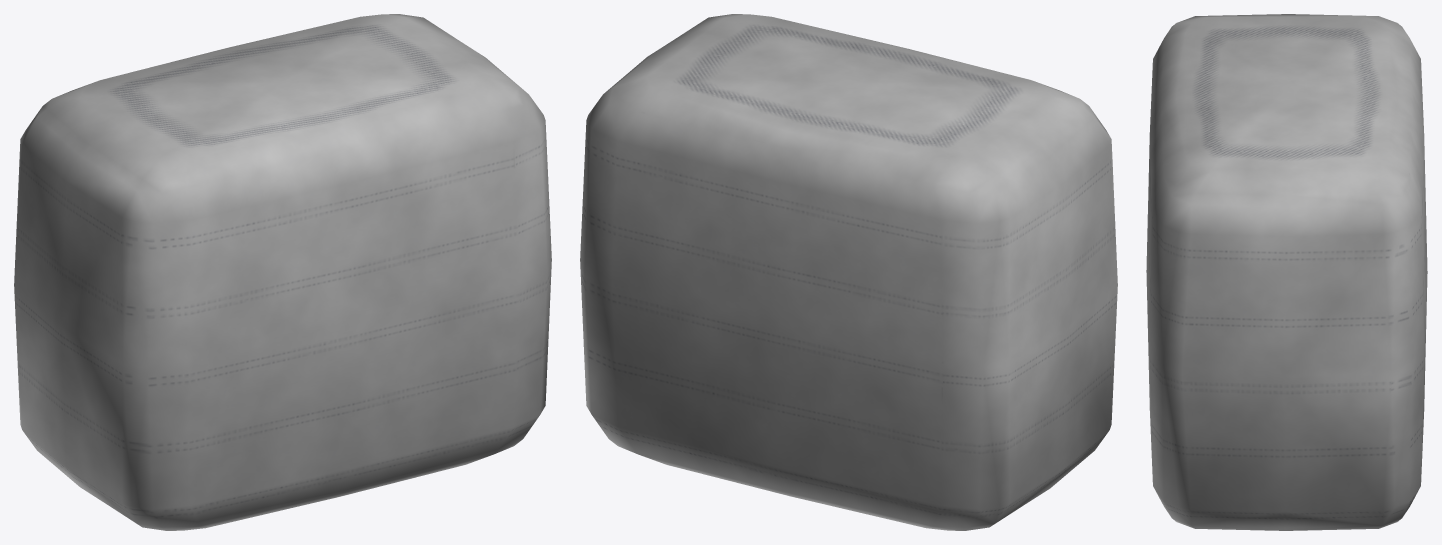
The model's file is UpperTorso_C1.fbx.
The picture shows the model from 3 angles, left to right: view 1: azimuth 30°, elevation 25°; view 2: azimuth 150°, elevation 25°; view 3: azimuth 270°, elevation 25°; orthographic projection. The views are drawn at different scales.
Parts seen in each view (by area): view 1: Civ_ChalecoObra_UpperTorso_C1; view 2: Civ_ChalecoObra_UpperTorso_C1; view 3: Civ_ChalecoObra_UpperTorso_C1.
Part boxes in pixels (<box>): Civ_ChalecoObra_UpperTorso_C1: <box>14,14,551,530</box>; Civ_ChalecoObra_UpperTorso_C1: <box>580,14,1117,530</box>; Civ_ChalecoObra_UpperTorso_C1: <box>1146,14,1427,530</box>.
Bounding box in the file's own units: 2.19 × 1.81 × 1.25.
